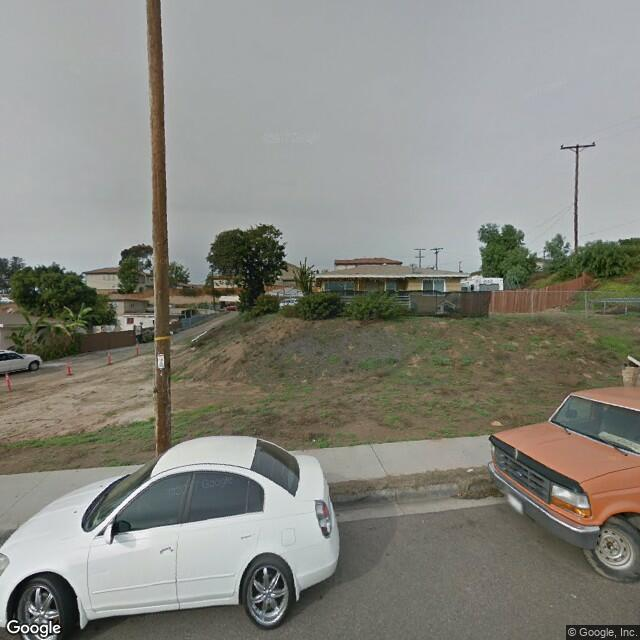litter: (464, 462, 475, 474)
